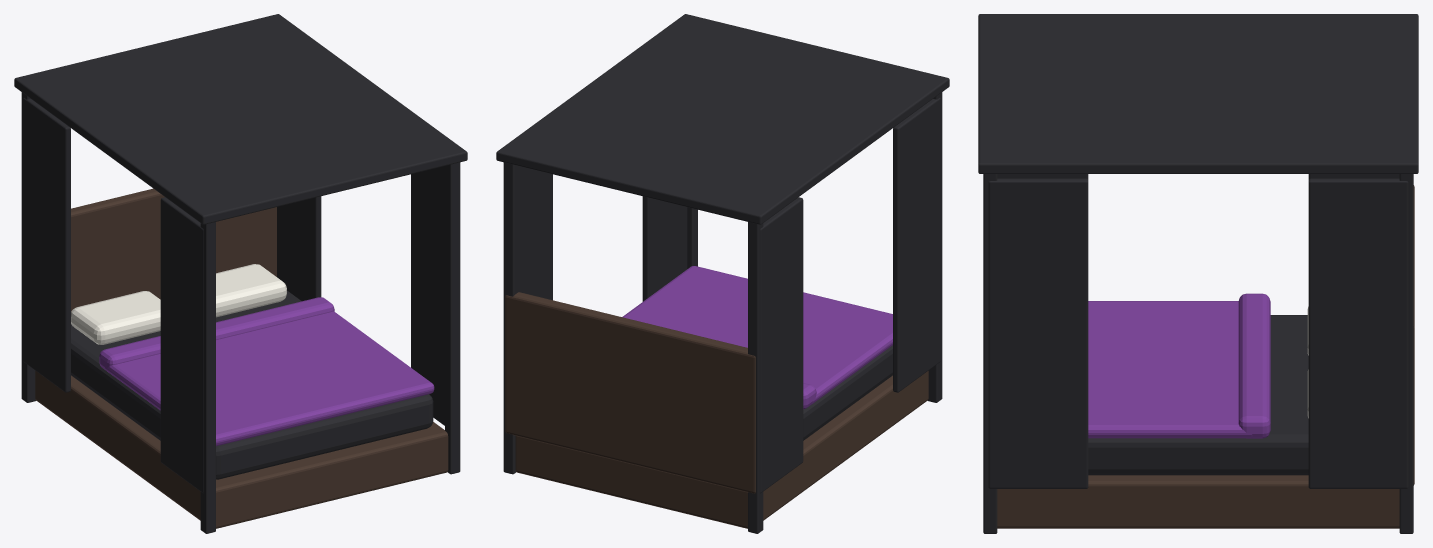
File: bed_black_canopy.glb
3 views of the same model, side by side, from view 1: azimuth 30°, elevation 25°; view 2: azimuth 150°, elevation 25°; view 3: azimuth 270°, elevation 25° (orthographic). The views are drawn at different scales.
Visible parts, largest first — view 1: GD_bed_black_canopy__m1, GD_bed_black_canopy__m0, GD_bed_black_canopy__m2, GD_bed_black_canopy__m3; view 2: GD_bed_black_canopy__m1, GD_bed_black_canopy__m0, GD_bed_black_canopy__m2; view 3: GD_bed_black_canopy__m1, GD_bed_black_canopy__m2, GD_bed_black_canopy__m0.
Boxes of the visible parts, box(x1,y1,x2,y2) form: GD_bed_black_canopy__m1: box(14, 14, 467, 533); GD_bed_black_canopy__m0: box(35, 188, 448, 528); GD_bed_black_canopy__m2: box(99, 297, 434, 445); GD_bed_black_canopy__m3: box(71, 264, 286, 344); GD_bed_black_canopy__m1: box(496, 14, 949, 533); GD_bed_black_canopy__m0: box(505, 292, 928, 528); GD_bed_black_canopy__m2: box(622, 266, 892, 409); GD_bed_black_canopy__m1: box(978, 14, 1418, 533); GD_bed_black_canopy__m2: box(1088, 293, 1270, 438); GD_bed_black_canopy__m0: box(997, 185, 1414, 528).
Bounding box in the file's own units: 1.78 × 2.06 × 2.2.
